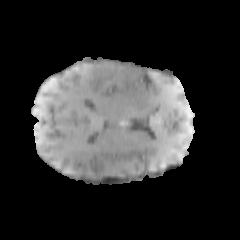glioma: (72, 62, 155, 100)
